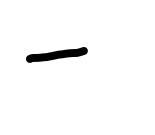minus: (26, 47, 88, 63)
